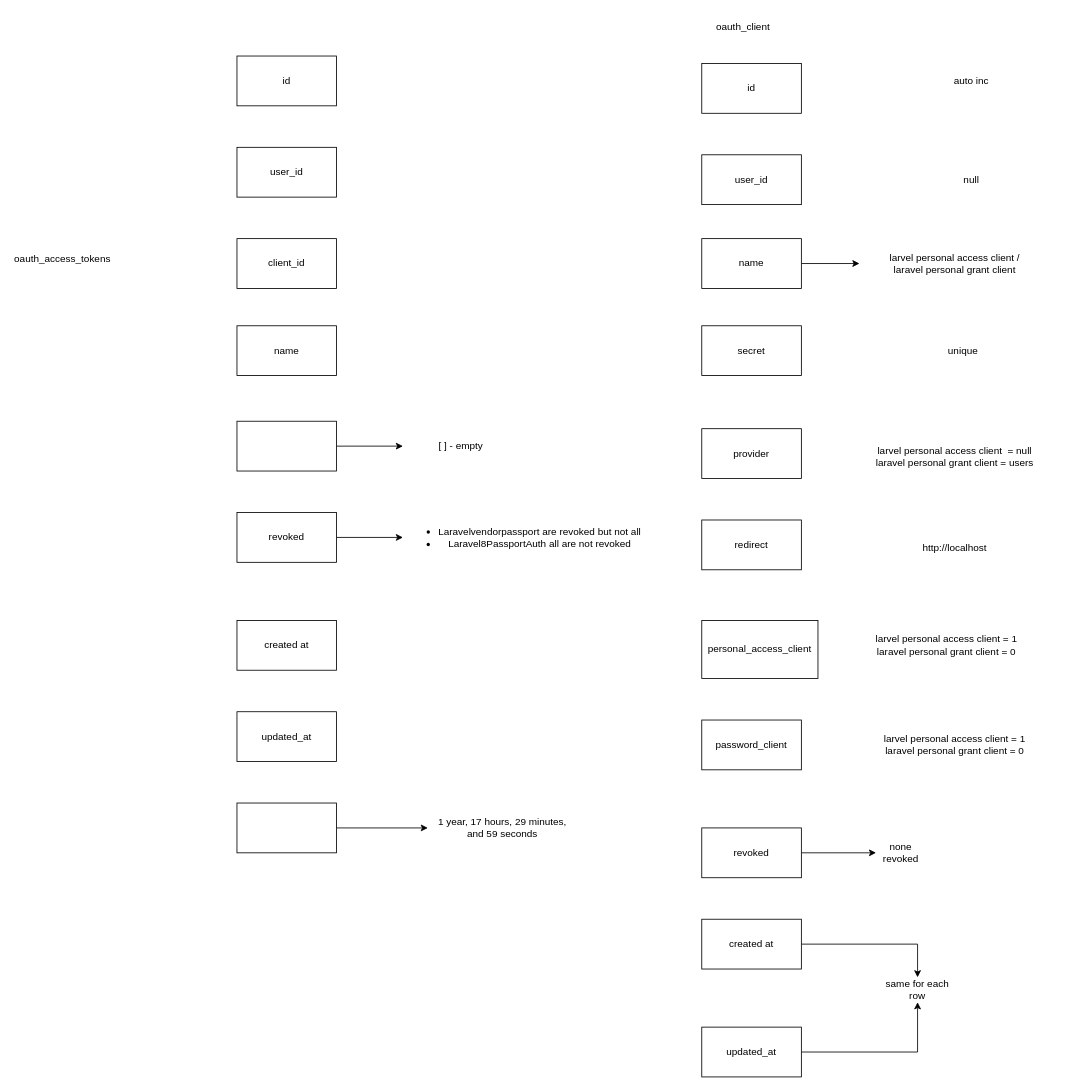
Some shapes in this 1081 by 1091 pixel diagram are drawn without their labels. Each missing label, with the box of its shape:
expires_at: (236, 802, 337, 853)
scopes: (236, 420, 337, 471)
